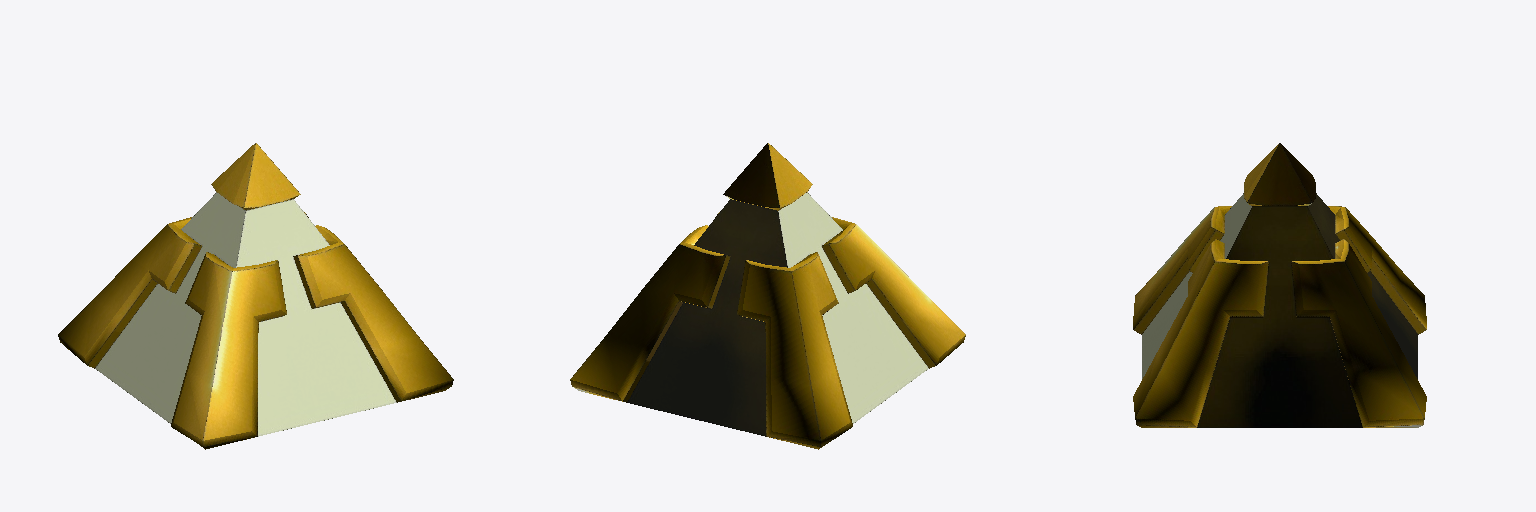
3 renders of one model, left to right at view 1: azimuth 30°, elevation 25°; view 2: azimuth 150°, elevation 25°; view 3: azimuth 270°, elevation 25°, orthographic.
Parts seen in each view (by area): view 1: Pyramid001; view 2: Pyramid001; view 3: Pyramid001.
Part boxes in pixels (left/top/right/bottom): Pyramid001: left=58, top=143, right=453, bottom=449; Pyramid001: left=570, top=143, right=965, bottom=449; Pyramid001: left=1133, top=143, right=1426, bottom=427.
Size of the model in its own units: 61.96 by 52.96 by 61.96.
Materials: 1 (1 with a texture image).